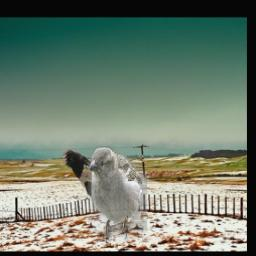Crow: (63, 149, 95, 197)
Sparrow: (89, 147, 148, 243)
